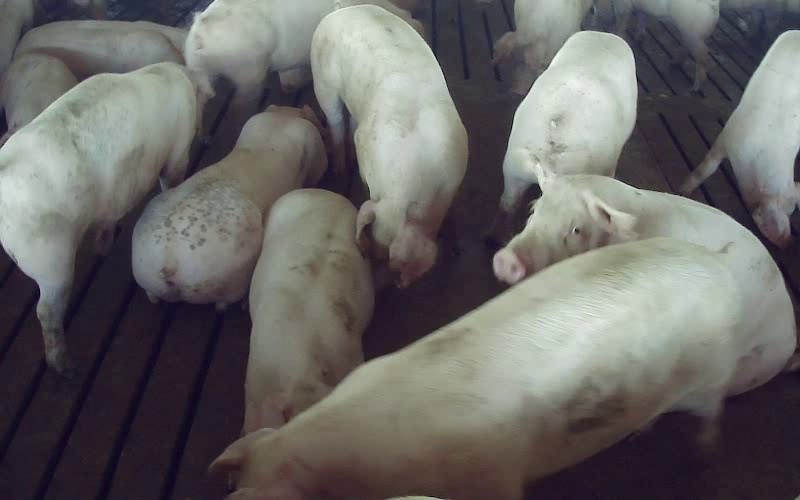pig: (212, 239, 735, 499), (494, 169, 795, 393), (0, 62, 212, 373), (311, 6, 466, 285), (132, 107, 326, 307), (244, 189, 373, 432), (681, 30, 799, 246), (500, 32, 636, 211), (185, 0, 421, 102), (15, 21, 186, 80)
